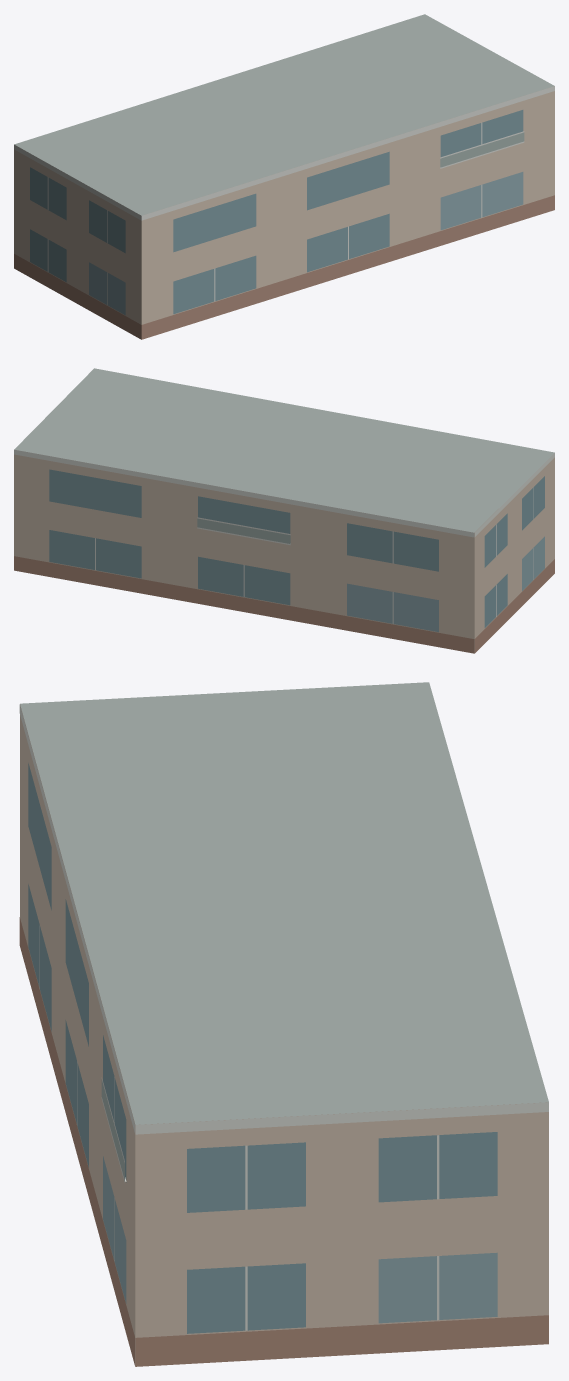
Rendered from survey-upis-32539686.glb.
3 views of the same model, one above another, from view 1: azimuth 30°, elevation 25°; view 2: azimuth 150°, elevation 25°; view 3: azimuth 270°, elevation 25° (orthographic). The views are drawn at different scales.
Parts seen in each view (by area): view 1: survey-upis-32539686.tmp; view 2: survey-upis-32539686.tmp; view 3: survey-upis-32539686.tmp.
Boxes of the visible parts, x1,y1,x2,y2 form: survey-upis-32539686.tmp: (14,14,554,339); survey-upis-32539686.tmp: (14,368,554,653); survey-upis-32539686.tmp: (19,682,548,1366).
Size of the model in its own units: 23.97 by 6.1 by 12.11.
